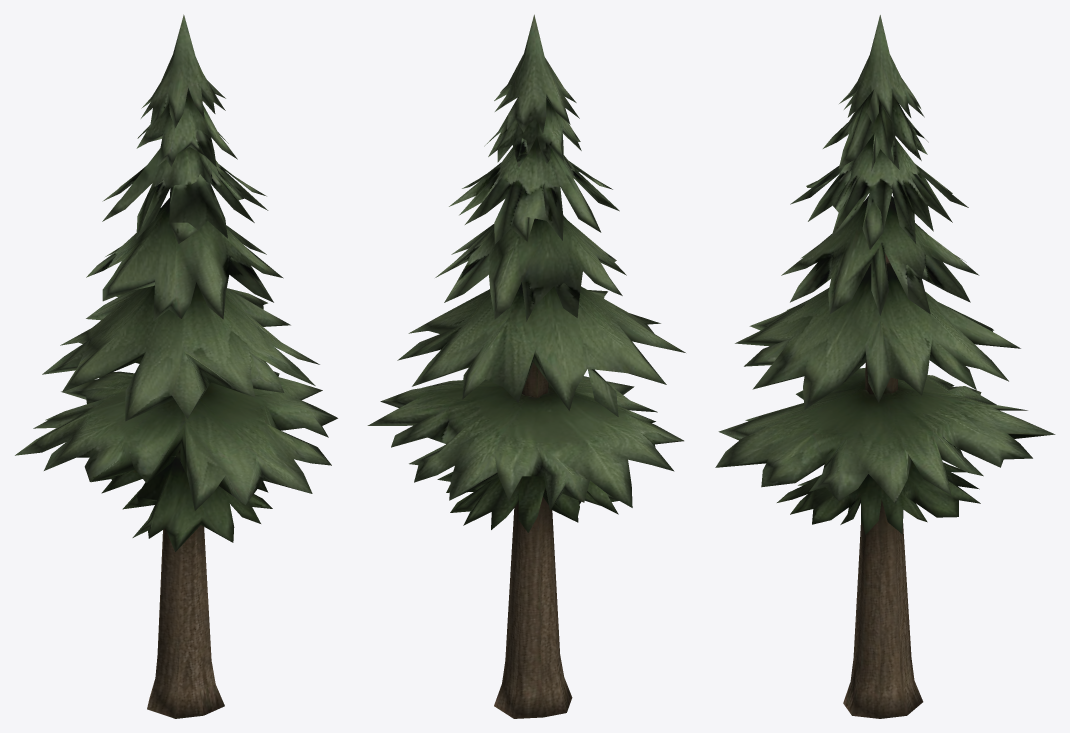
The model's file is pine+tree+3d+model.glb.
The picture shows the model from 3 angles, left to right: view 1: azimuth 30°, elevation 25°; view 2: azimuth 150°, elevation 25°; view 3: azimuth 270°, elevation 25°; orthographic projection.
Parts seen in each view (by area): view 1: tripo_node_52755d7c-15e1-424a-9690-303dd7a57c27; view 2: tripo_node_52755d7c-15e1-424a-9690-303dd7a57c27; view 3: tripo_node_52755d7c-15e1-424a-9690-303dd7a57c27.
Boxes of the visible parts, x1,y1,x2,y2 form: tripo_node_52755d7c-15e1-424a-9690-303dd7a57c27: (15,14,337,718); tripo_node_52755d7c-15e1-424a-9690-303dd7a57c27: (367,14,685,718); tripo_node_52755d7c-15e1-424a-9690-303dd7a57c27: (715,15,1055,718).
Bounding box in the file's own units: 0.4355 × 0.998 × 0.4473.
Materials: 1 (1 with a texture image).
